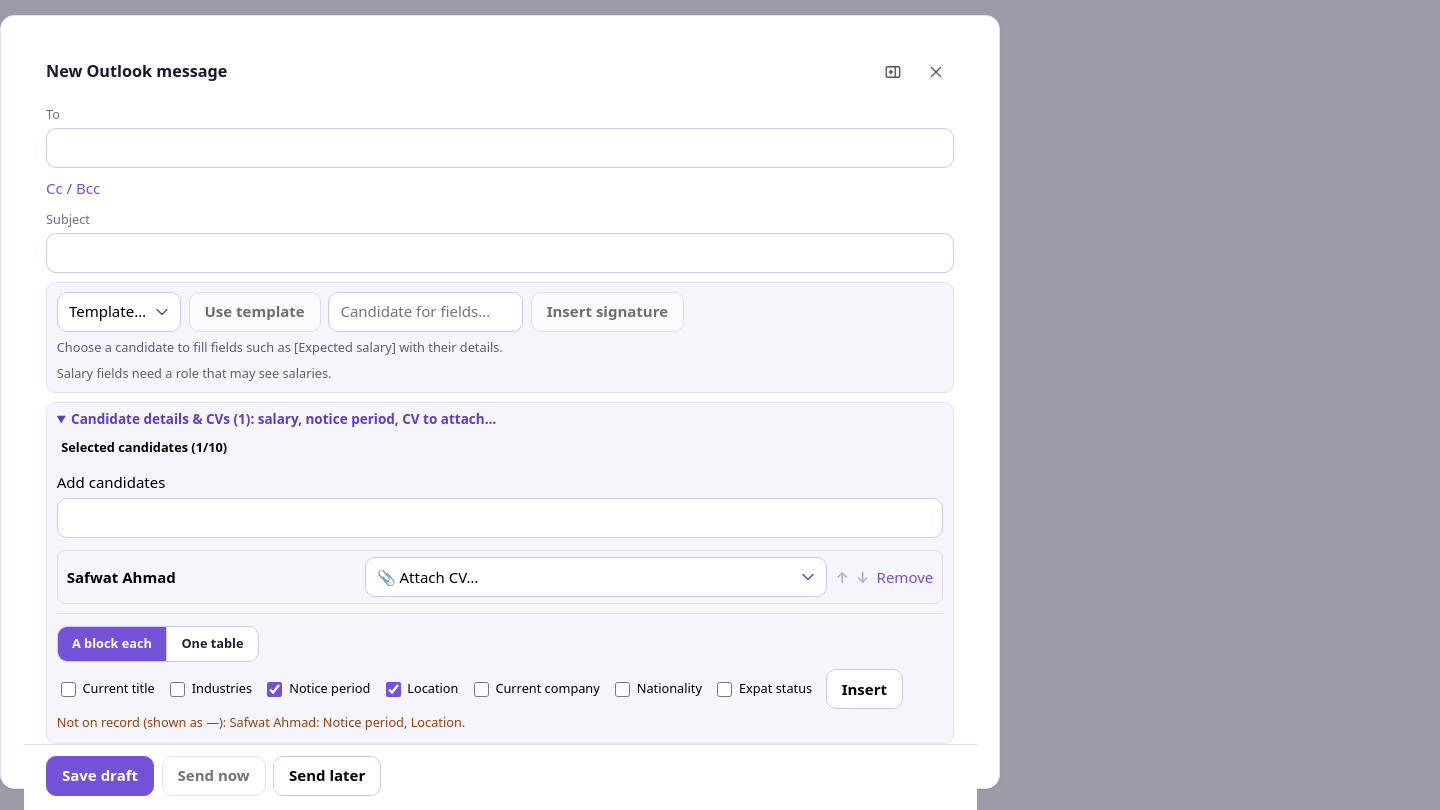
candidate details in an Outlook message › attaches a candidate's CV from their row in the candidate details
Later steps or results of the test are not shown.
Check: the heading "Candidate details & CVs" is shown, box x1=71 y1=410 x2=496 y2=428
In the dropdown labelled "To": (500, 148) x1=46 y1=128 x2=954 y2=168, type "client@example.test"
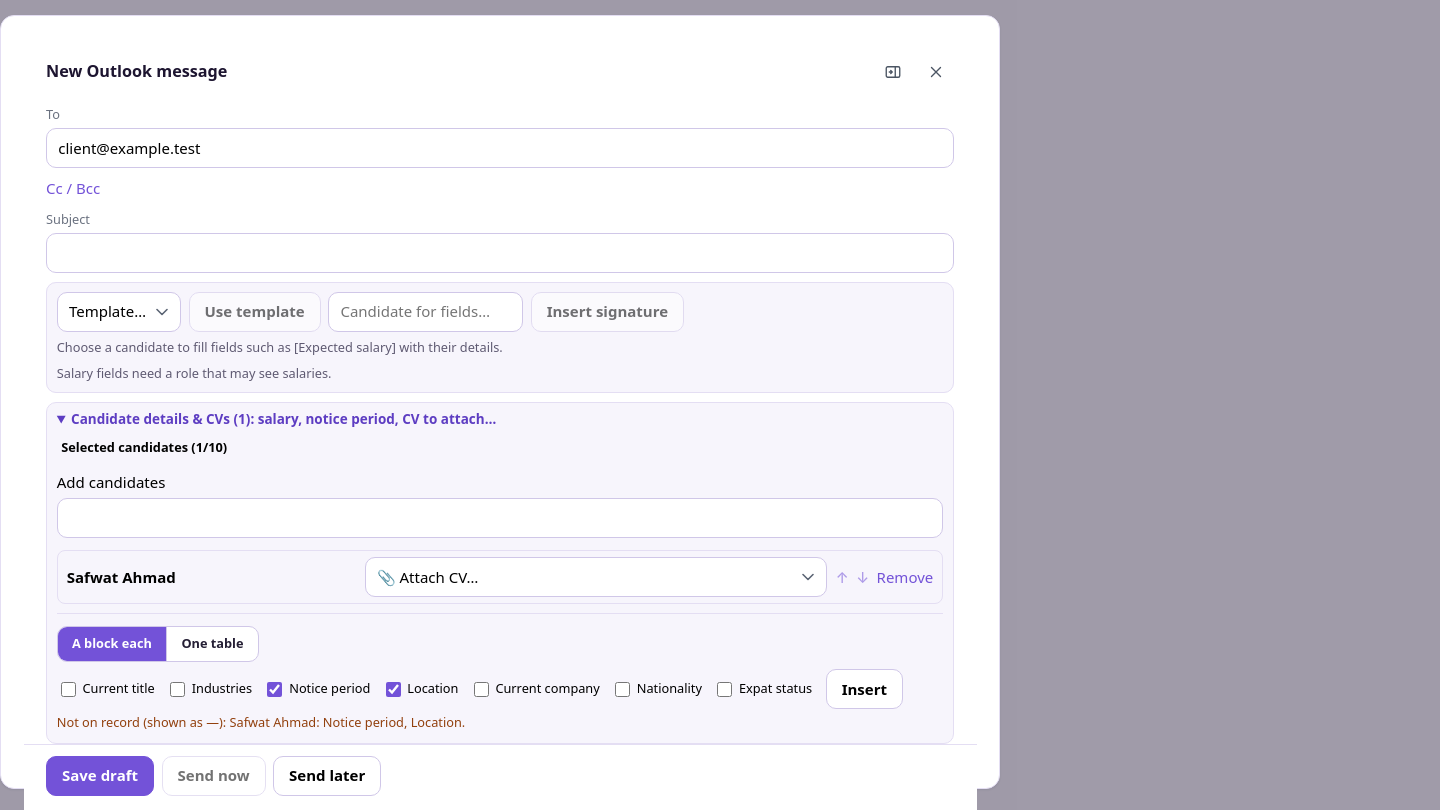
In the field labelled "Subject": (500, 253) x1=46 y1=233 x2=954 y2=273, type "Candidate CV"
(page scrolled)
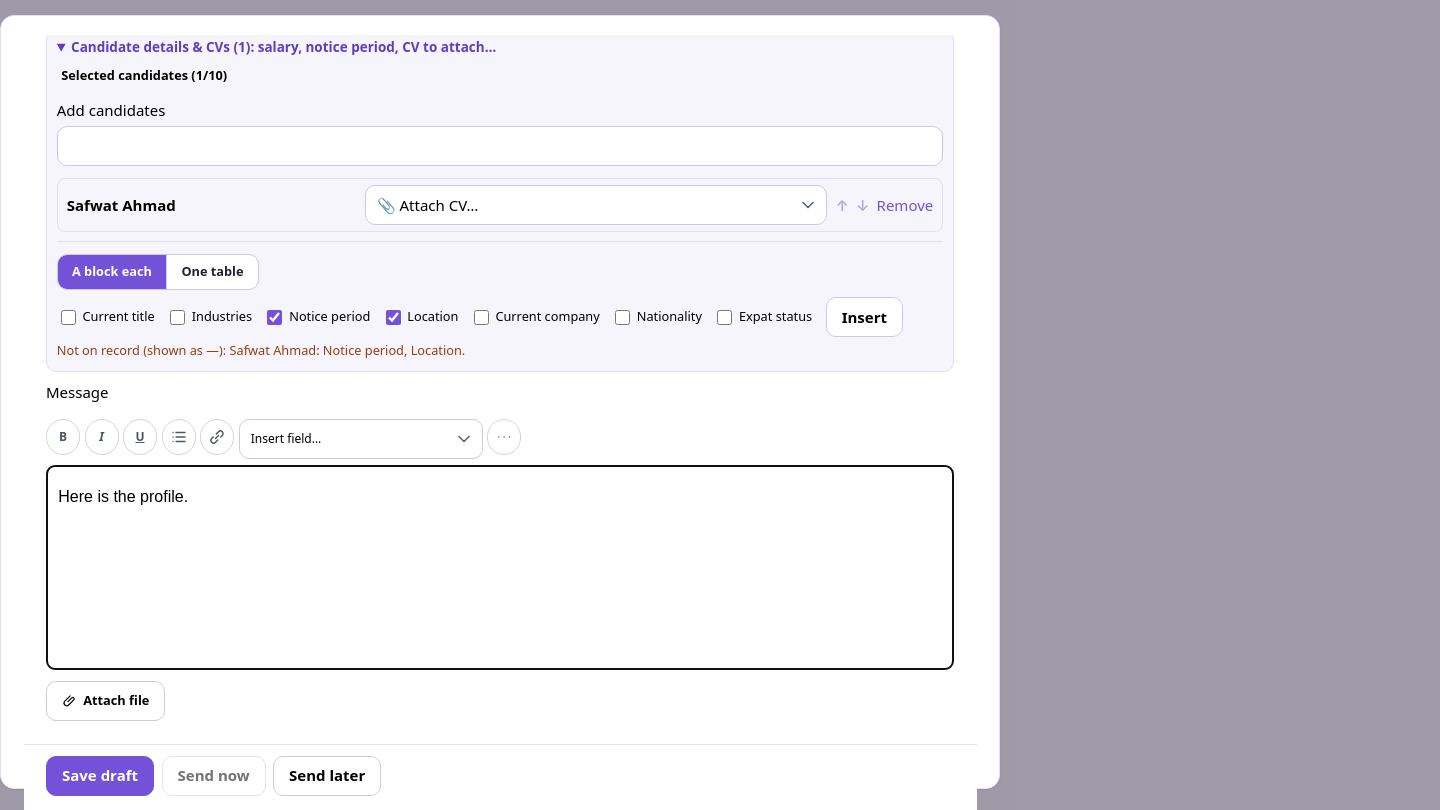
Clear the field named "Message": (500, 568) x1=46 y1=465 x2=954 y2=670
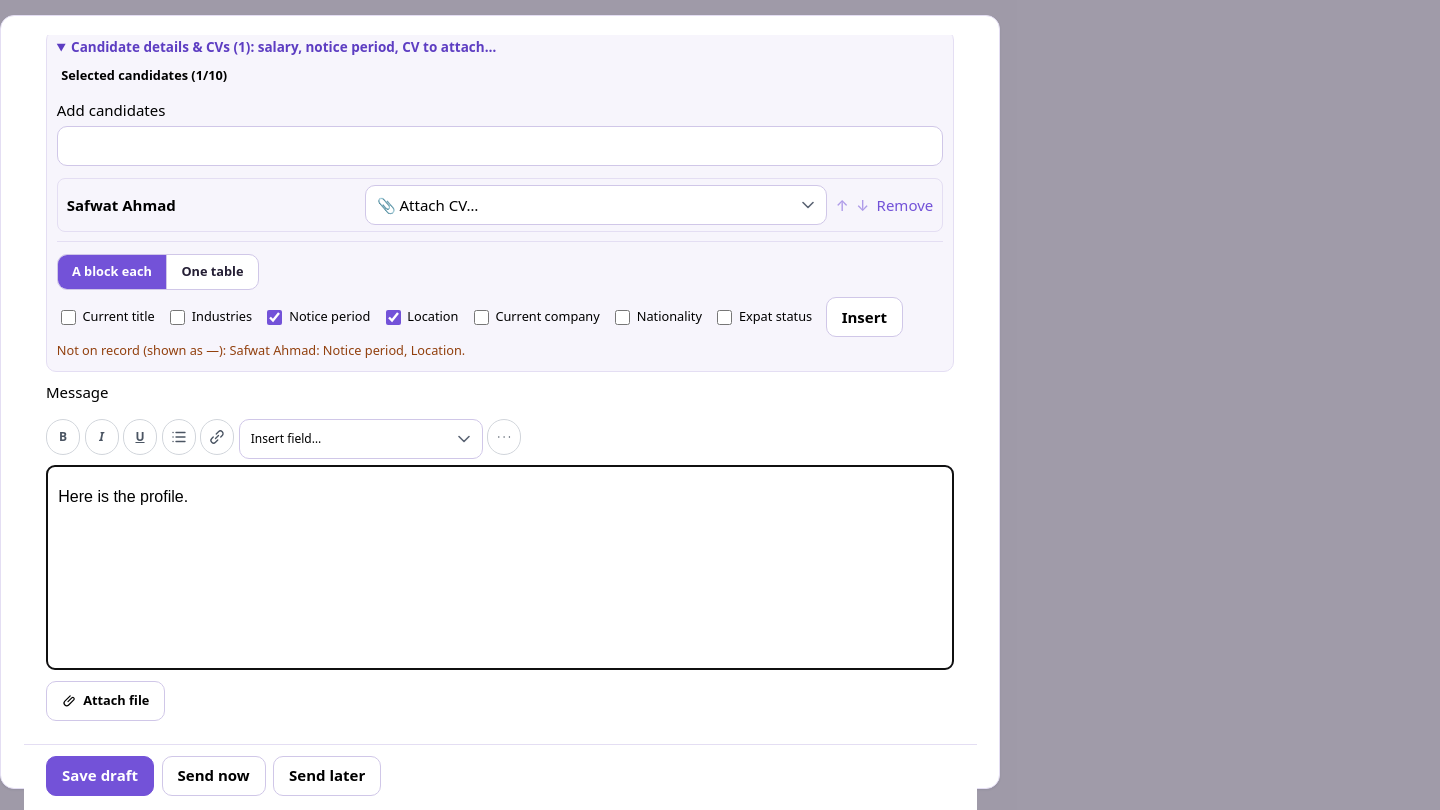
Check: the button "Send now" is enabled, box x1=162 y1=756 x2=266 y2=796
Select "Safwat Ahmad CV (PDF) · 11/20/2026, 12:00:00 AM" in the dropdown named "Attach a CV of": (596, 205) x1=365 y1=185 x2=827 y2=226
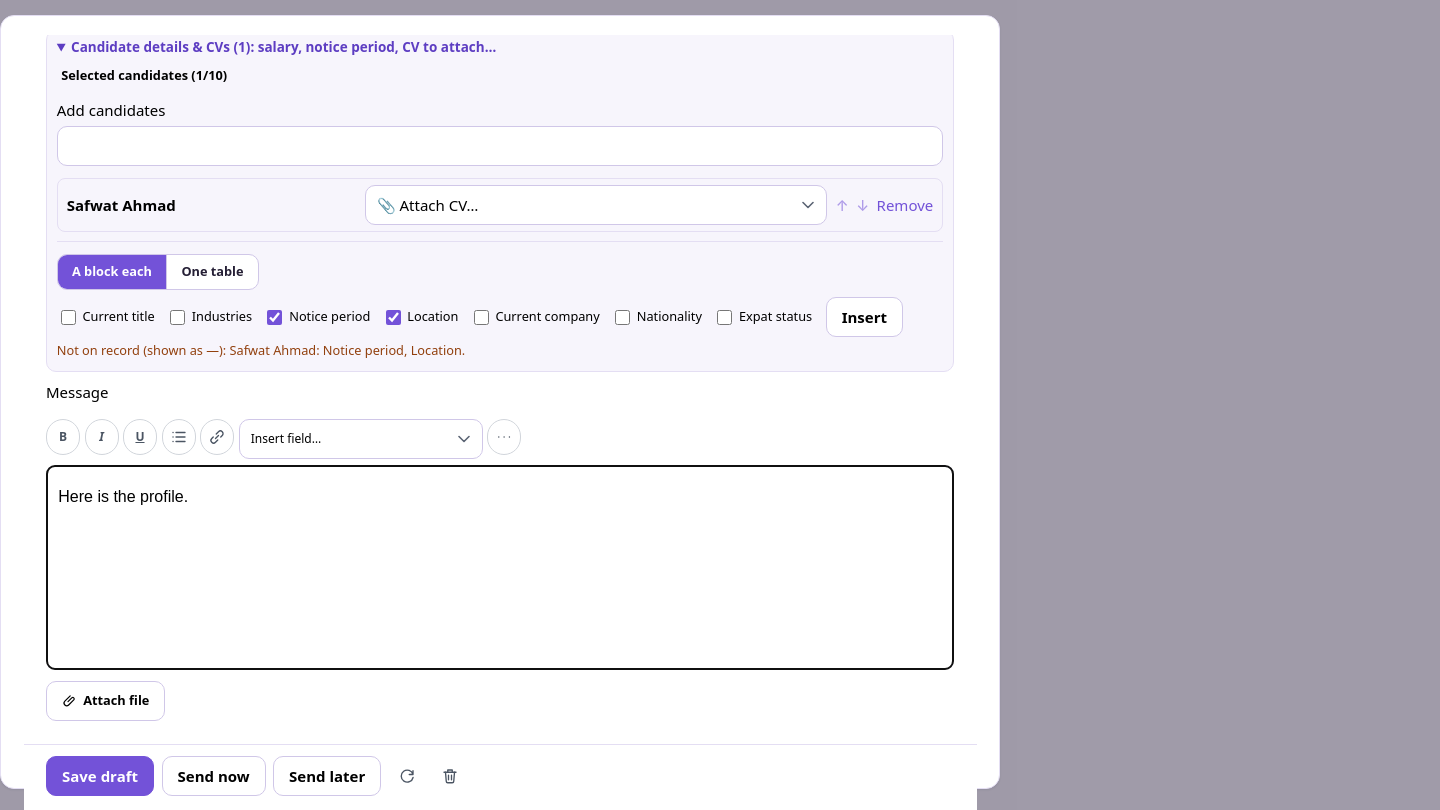
Check: the button "Send now" is enabled, box x1=162 y1=756 x2=266 y2=796
Check: the text "Attached Safwat Ahmad CV.pdf" is shown, box x1=46 y1=752 x2=264 y2=772
